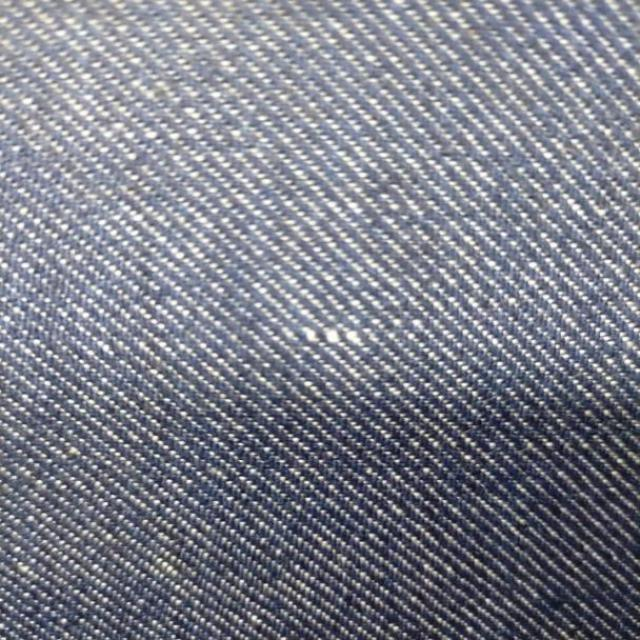Knot: (301, 327, 363, 346)
